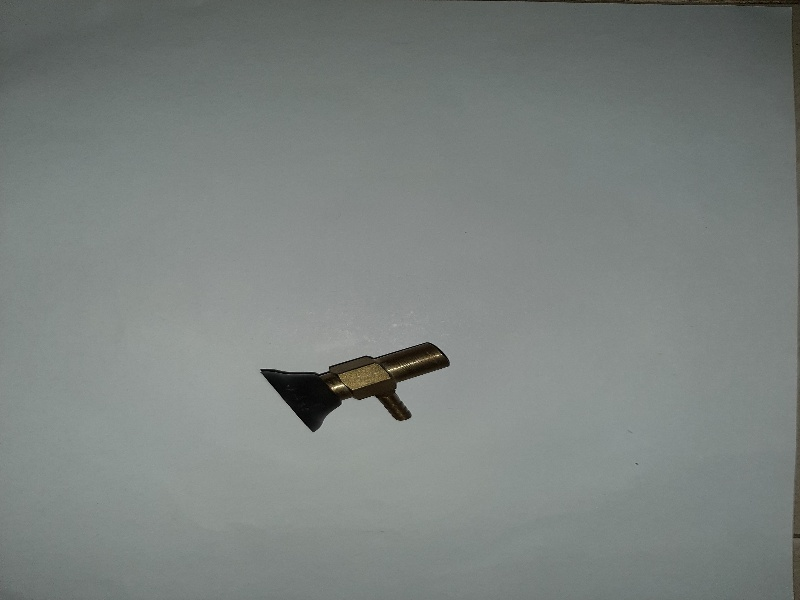Joint Hold: (257, 338, 452, 436)
